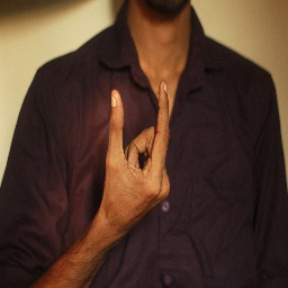U: (98, 75, 178, 205)
